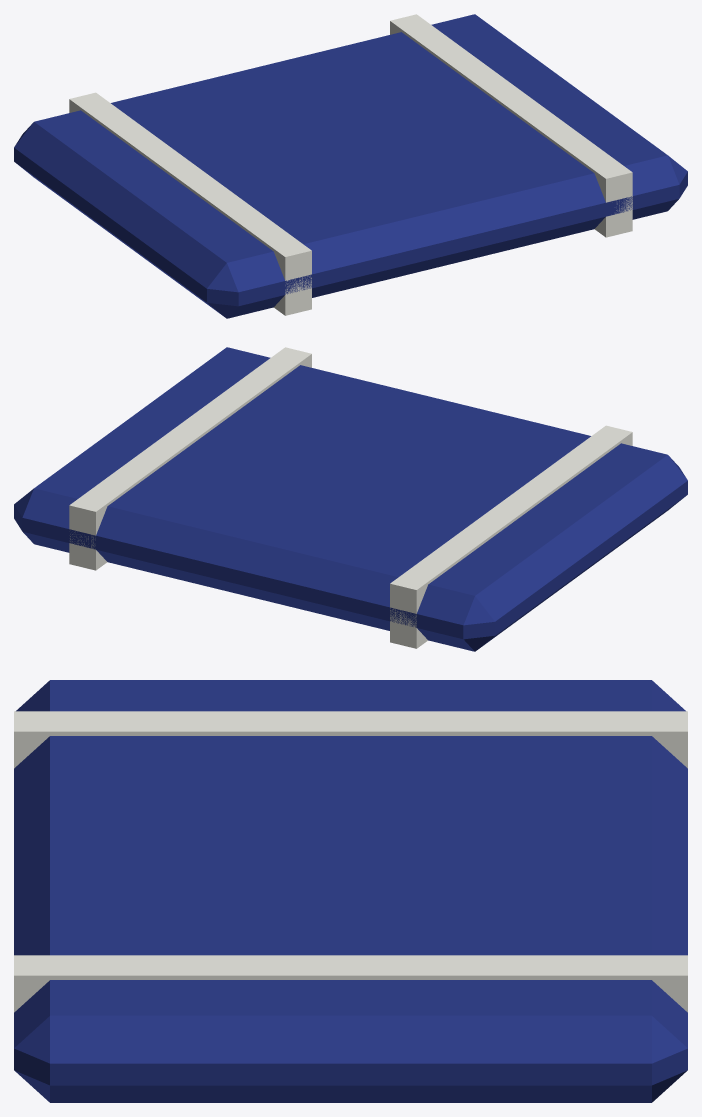
The model's file is tracksuit.glb.
3 renders of one model, top to bottom at view 1: azimuth 30°, elevation 25°; view 2: azimuth 150°, elevation 25°; view 3: azimuth 270°, elevation 25°, orthographic. The views are drawn at different scales.
Visible parts, largest first — view 1: Item; view 2: Item; view 3: Item.
Boxes of the visible parts, bbox=[...] form: Item: bbox=[14, 14, 687, 318]; Item: bbox=[14, 347, 687, 651]; Item: bbox=[14, 680, 687, 1102].
Size of the model in its own units: 0.36 by 0.042 by 0.28.
